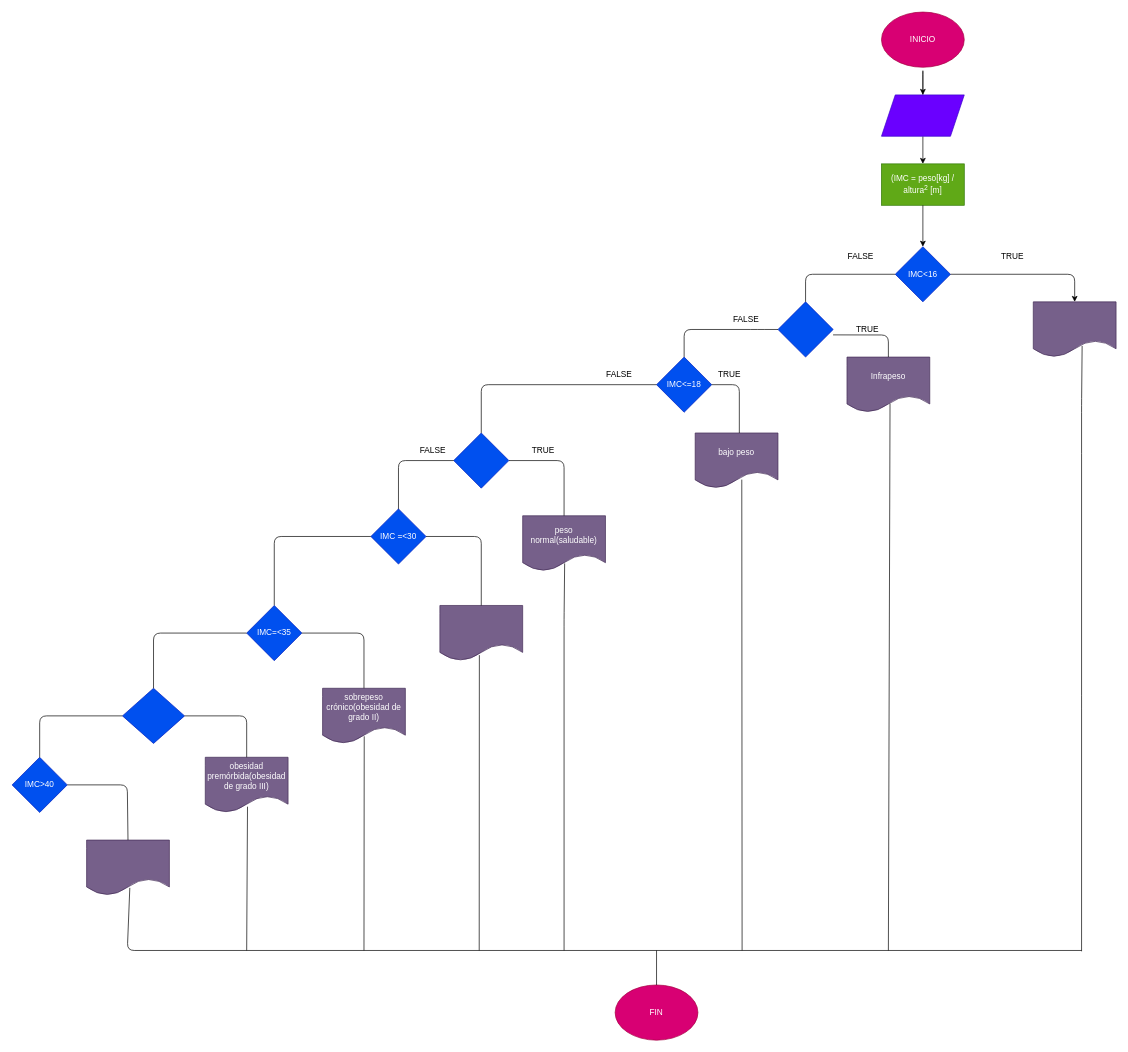
The diagram is 1128 pixels wide and 1052 high, and some of its shapes have lost their labels. The centre of each missing label's shape, as x and y in pixels:
"altura , peso" belongs at point 922,115.
"Criterio de ingreso en hospital" belongs at point 1074,329.
"IMC =<25" belongs at point 481,460.
"IMC<=17" belongs at point 805,329.
"IMC=<40" belongs at point 153,715.
"obesidad mórbida(obesidad de grado IV)" belongs at point 127,867.
"sobre peso(obesidad de grado I)" belongs at point 481,633.
